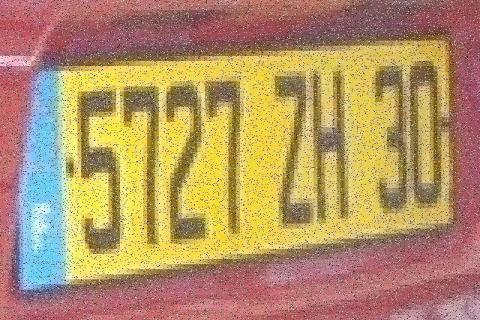LicensePlate: (2, 29, 462, 297)
